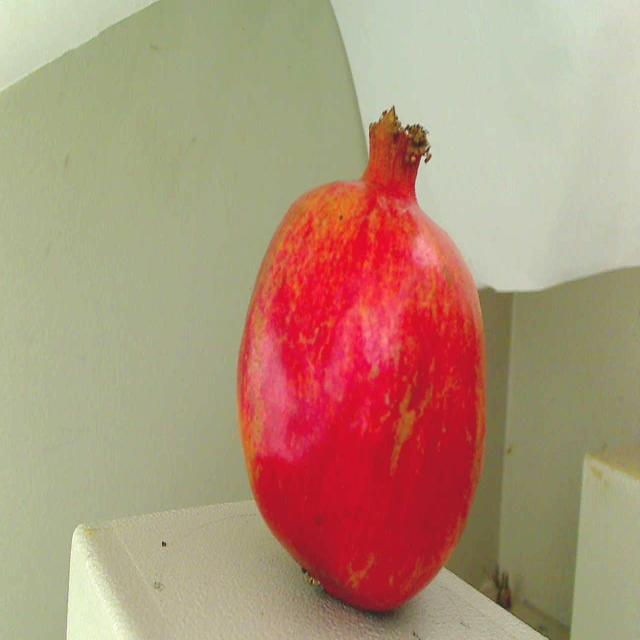pomegranate: (232, 111, 508, 620)
